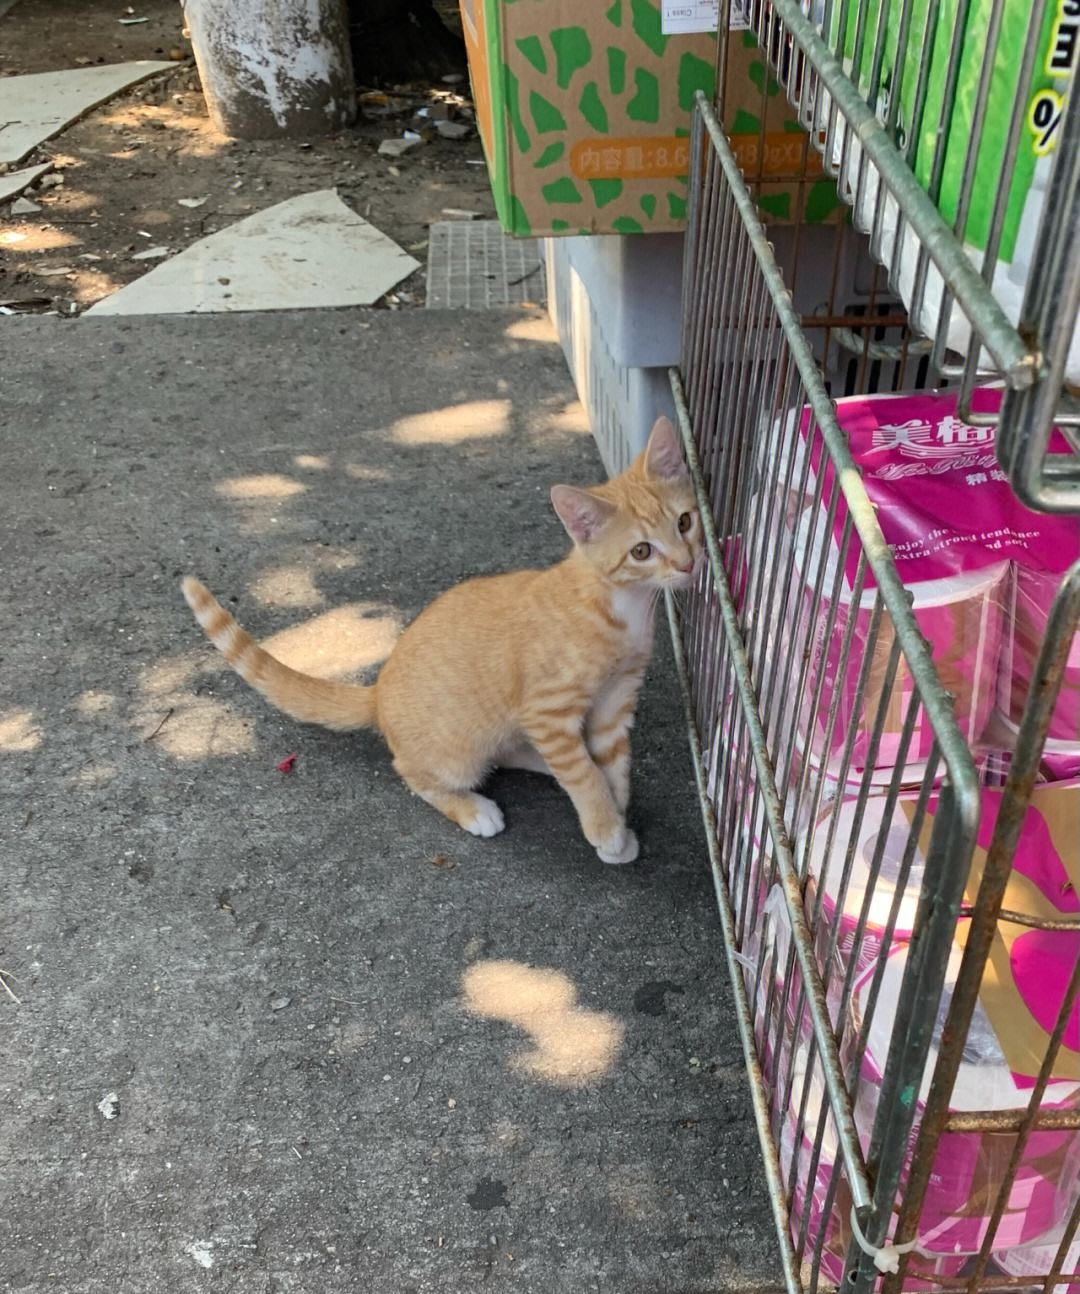cat: (178, 409, 703, 869)
